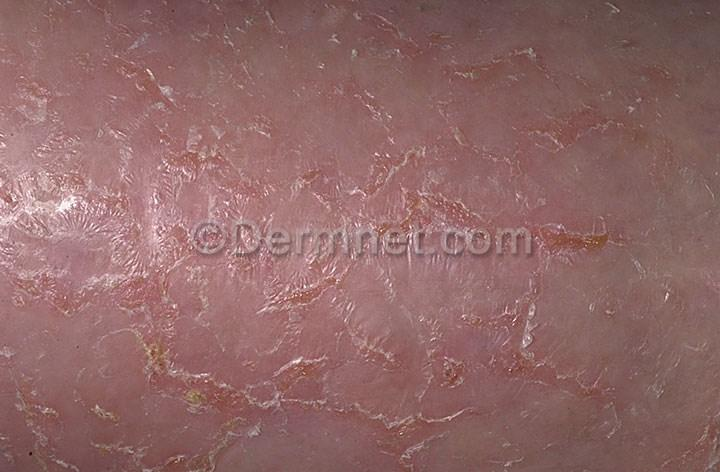Eczema: (0, 270, 182, 450), (423, 0, 611, 168), (568, 174, 716, 359), (167, 129, 326, 294), (177, 293, 357, 432), (0, 125, 166, 267), (593, 0, 720, 179), (504, 313, 639, 472), (420, 165, 557, 316), (273, 0, 420, 140), (360, 279, 498, 419), (139, 0, 282, 124), (0, 0, 134, 123), (324, 129, 416, 277), (632, 357, 720, 472), (175, 421, 364, 472), (358, 415, 506, 472), (0, 437, 173, 472)
